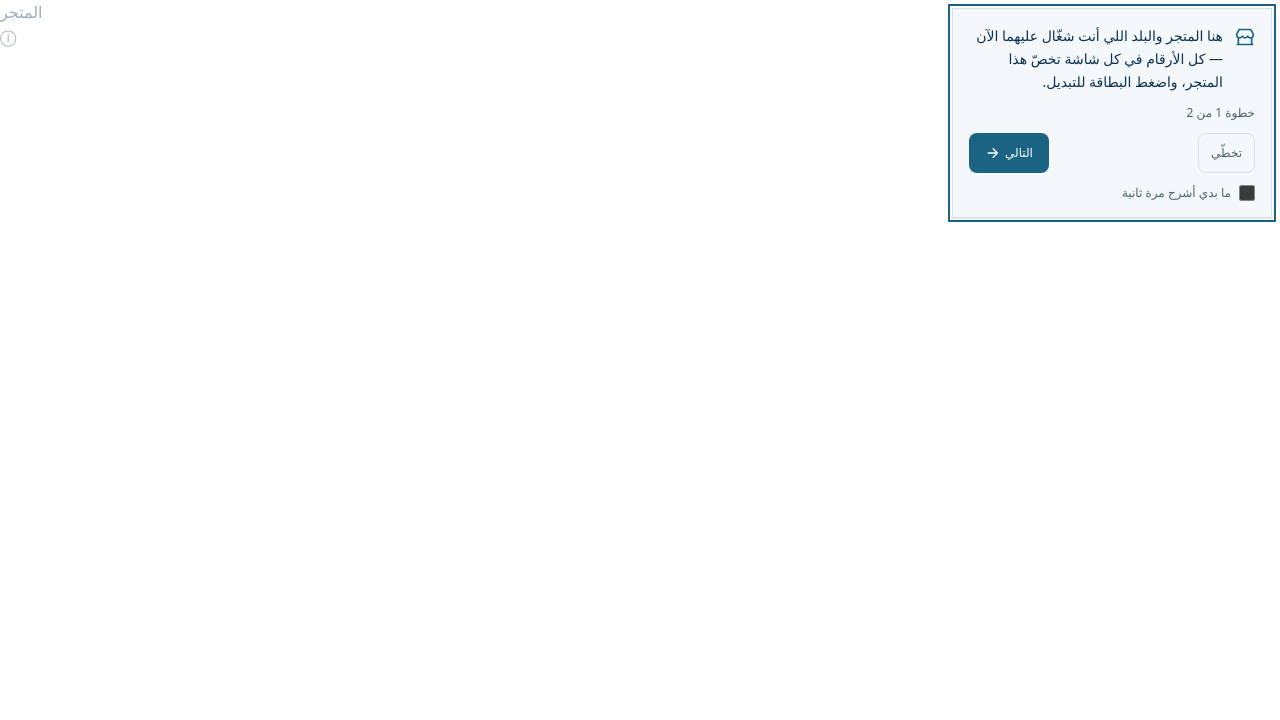
a step whose element is not on the screen › — and one that is in the page but HIDDEN counts as not there (a phone: the sidebar is display:none)
Expected: the text "خطوة 1 من 2" is shown, [1187,104,1255,121]
Expected: the text "المتجر والبلد" is shown, [976,26,1223,90]
Click the button "التالي": (1009,153) [969,133,1049,173]
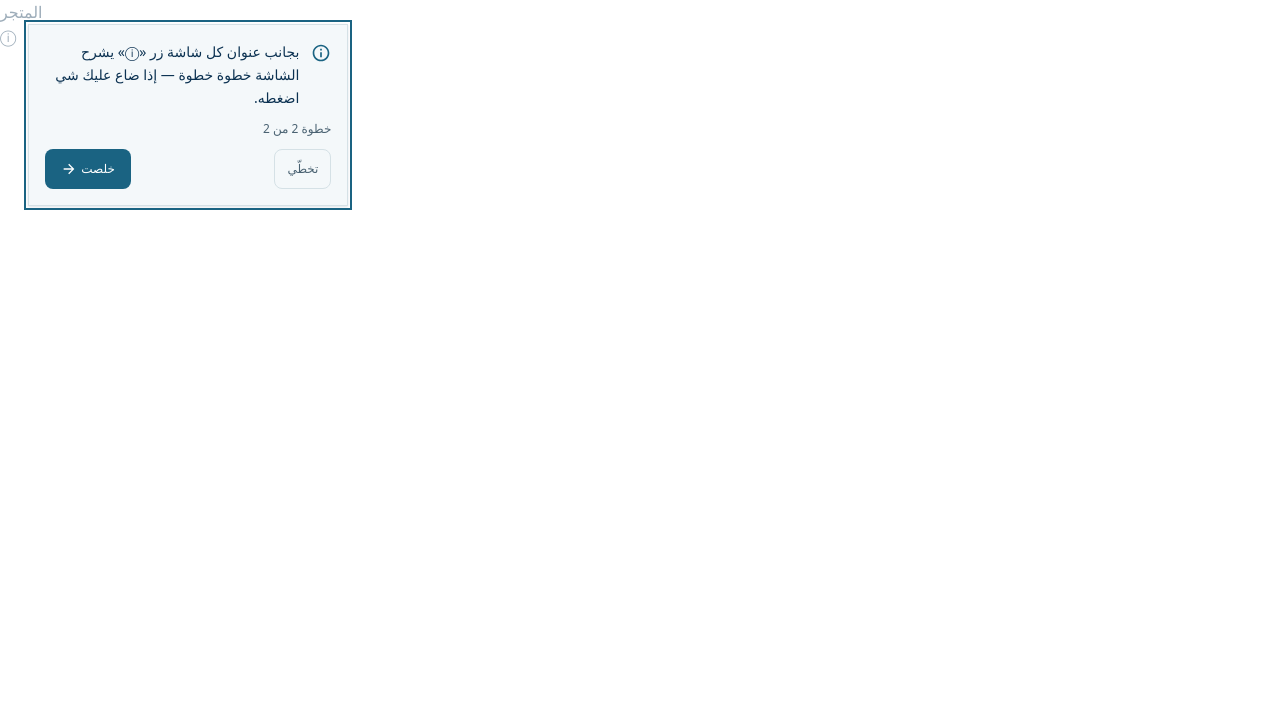
Now the text "زر «ⓘ»" is shown, box [55,42,299,106]
